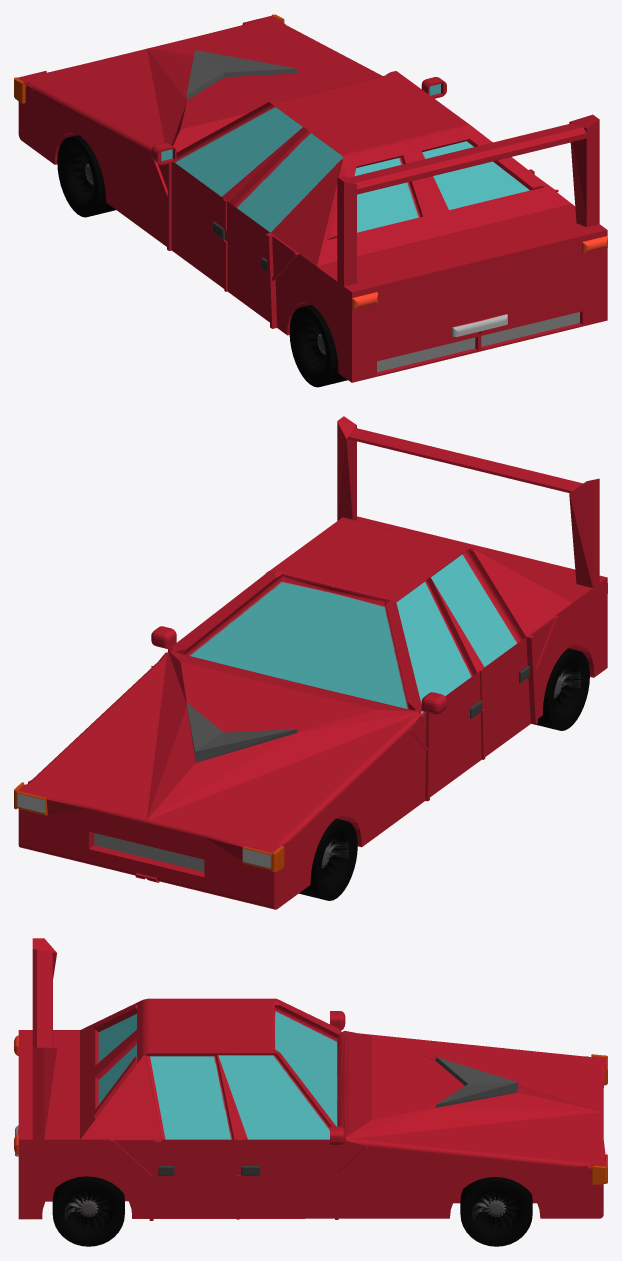
File: Car.fbx
The picture shows the model from 3 angles, top to bottom: view 1: azimuth 30°, elevation 25°; view 2: azimuth 150°, elevation 25°; view 3: azimuth 270°, elevation 25°; orthographic projection. The views are drawn at different scales.
Visible parts, largest first — view 1: Car Body, Rear Left Wheel, Front Left Wheel; view 2: Car Body, Front Left Wheel, Rear Left Wheel; view 3: Car Body, Rear Right Wheel, Front Right Wheel.
Boxes of the visible parts, box(x1,y1,x2,y2) form: Car Body: box(14, 14, 607, 382); Rear Left Wheel: box(289, 305, 347, 387); Front Left Wheel: box(57, 135, 115, 217); Car Body: box(14, 416, 607, 909); Front Left Wheel: box(299, 818, 357, 900); Rear Left Wheel: box(536, 648, 589, 730); Car Body: box(14, 938, 607, 1220); Rear Right Wheel: box(52, 1176, 124, 1246); Front Right Wheel: box(460, 1177, 532, 1246).
Size of the model in its own units: 336 by 251 by 681.
2 materials, 2 textured.
